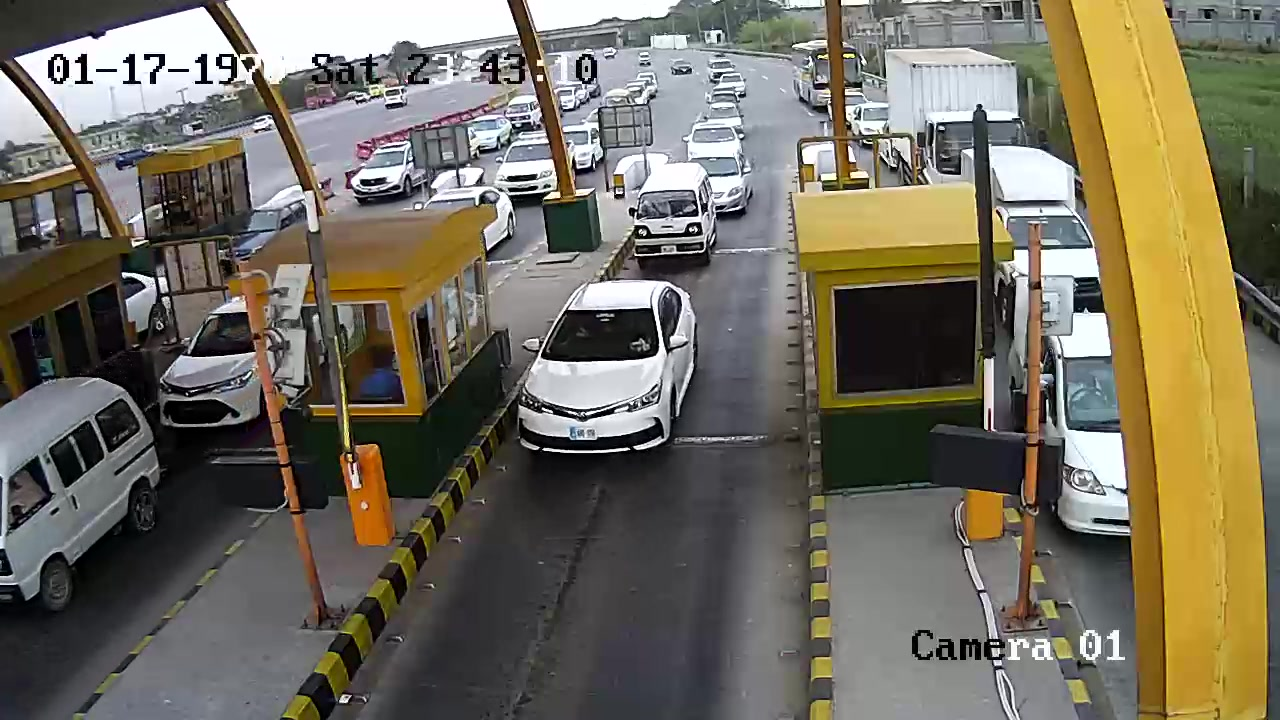F1: (508, 278, 728, 469)
